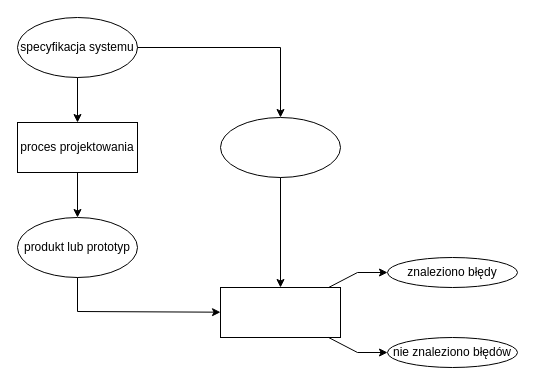
Some shapes in this 535 by 385 pixel diagram are drawn without their labels. Each missing label, with the box of its shape:
weryfikacja: (220, 286, 340, 338)
właściwości: (220, 116, 340, 178)
